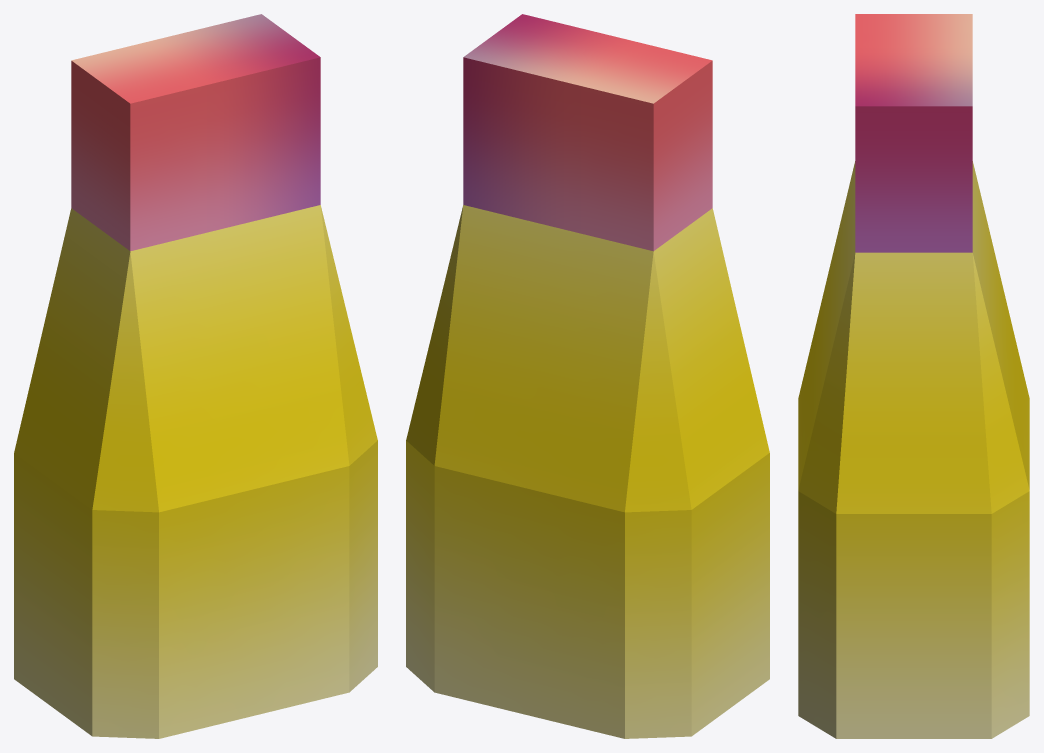
Rendered from giftgoods107h.fbx.
3 renders of one model, left to right at view 1: azimuth 30°, elevation 25°; view 2: azimuth 150°, elevation 25°; view 3: azimuth 270°, elevation 25°, orthographic.
Visible parts, largest first — view 1: giftgoods107h; view 2: giftgoods107h; view 3: giftgoods107h.
Boxes of the visible parts, <box> form: giftgoods107h: <box>14,14,377,738</box>; giftgoods107h: <box>406,14,769,738</box>; giftgoods107h: <box>798,14,1029,738</box>.
Size of the model in its own units: 0.0443 by 0.0911 by 0.0313.
